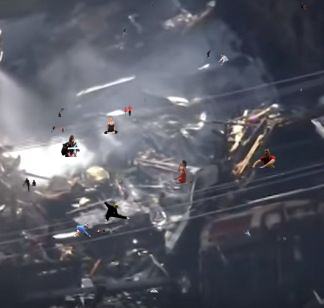Human: (104, 200, 130, 221), (250, 148, 277, 168), (61, 135, 80, 157), (172, 160, 188, 185), (73, 222, 91, 238), (104, 116, 118, 134), (218, 53, 229, 71), (23, 178, 36, 193), (58, 107, 70, 119), (59, 126, 71, 134), (124, 105, 132, 116), (97, 229, 110, 235), (51, 123, 58, 133), (149, 288, 159, 294), (122, 27, 128, 37), (243, 230, 251, 237), (301, 2, 307, 11), (207, 50, 211, 58), (149, 232, 153, 236), (283, 237, 286, 242), (300, 88, 303, 92), (151, 2, 153, 7), (144, 98, 146, 103), (189, 180, 192, 183)
